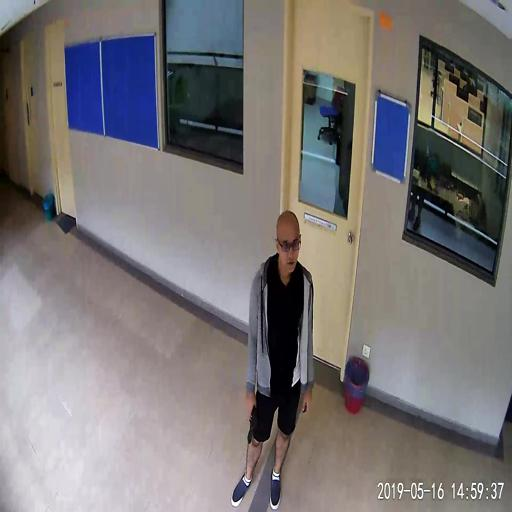pistol: (246, 401, 257, 444)
